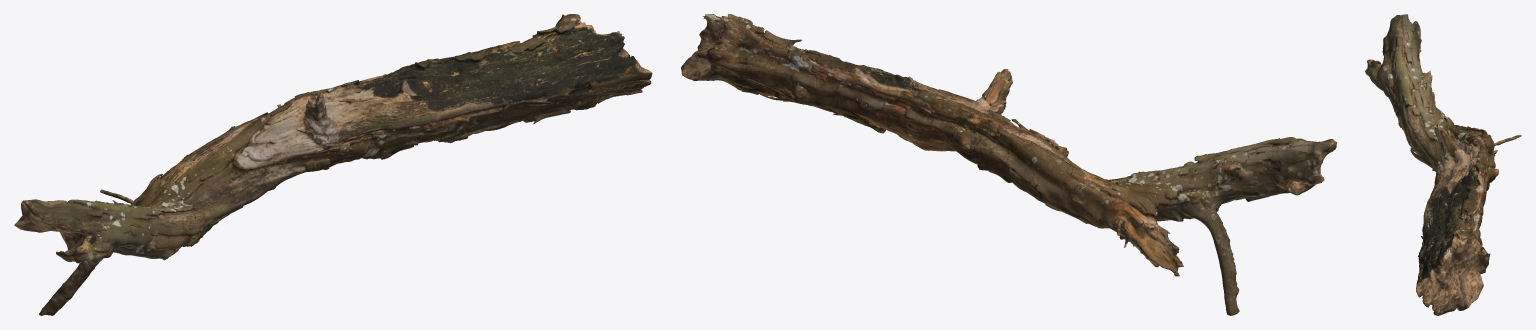
File: driftwood.glb
3 views of the same model, side by side, from view 1: azimuth 30°, elevation 25°; view 2: azimuth 150°, elevation 25°; view 3: azimuth 270°, elevation 25° (orthographic). The views are drawn at different scales.
Parts seen in each view (by area): view 1: dead_tree_trunk_02_LOD0; view 2: dead_tree_trunk_02_LOD0; view 3: dead_tree_trunk_02_LOD0.
Part boxes in pixels (left/top/right/bottom): dead_tree_trunk_02_LOD0: left=14, top=14, right=652, bottom=315; dead_tree_trunk_02_LOD0: left=681, top=14, right=1336, bottom=315; dead_tree_trunk_02_LOD0: left=1365, top=14, right=1521, bottom=315.
Bounding box in the file's own units: 4.05 × 1.06 × 1.06.
Materials: 1 (1 with a texture image).
